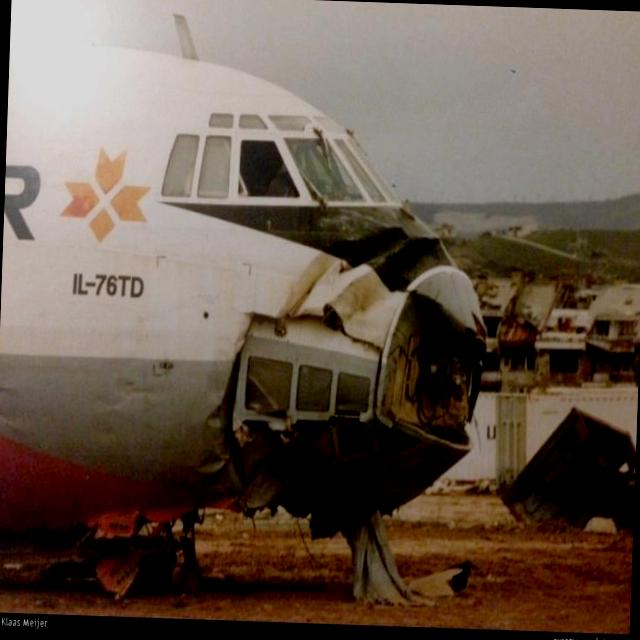dent: (194, 402, 230, 480)
